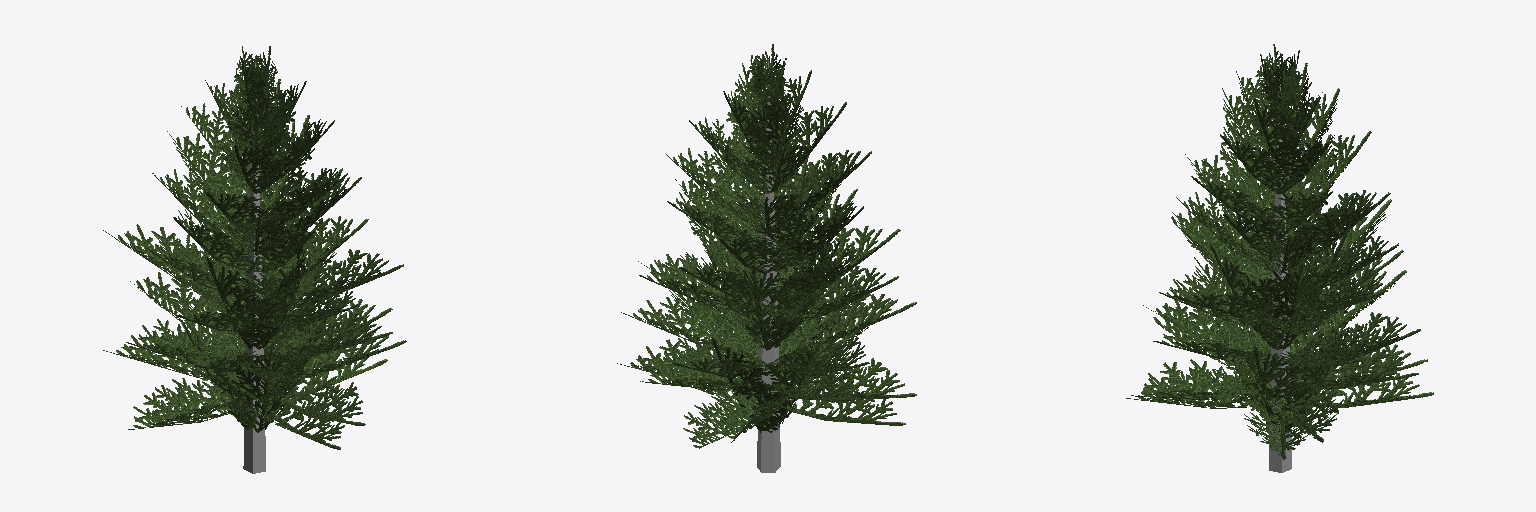
The picture shows the model from 3 angles: view 1: azimuth 30°, elevation 25°; view 2: azimuth 150°, elevation 25°; view 3: azimuth 270°, elevation 25°; orthographic projection.
Visible parts, largest first — view 1: mesh1_mesh1.004, mesh0_mesh0.004; view 2: mesh1_mesh1.004, mesh0_mesh0.004; view 3: mesh1_mesh1.004, mesh0_mesh0.004.
Boxes of the visible parts, <box> form: mesh1_mesh1.004: <box>103,46,406,449</box>; mesh0_mesh0.004: <box>243,56,265,473</box>; mesh1_mesh1.004: <box>617,44,916,448</box>; mesh0_mesh0.004: <box>757,59,780,472</box>; mesh1_mesh1.004: <box>1126,44,1433,459</box>; mesh0_mesh0.004: <box>1269,61,1291,472</box>.
Bounding box in the file's own units: 92.87 × 127 × 92.87.
Materials: 2 (1 with a texture image).